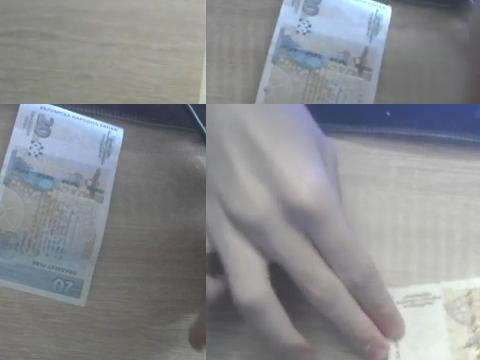10leva: (389, 279, 480, 360)
20leva: (0, 104, 125, 307), (254, 0, 393, 104)
